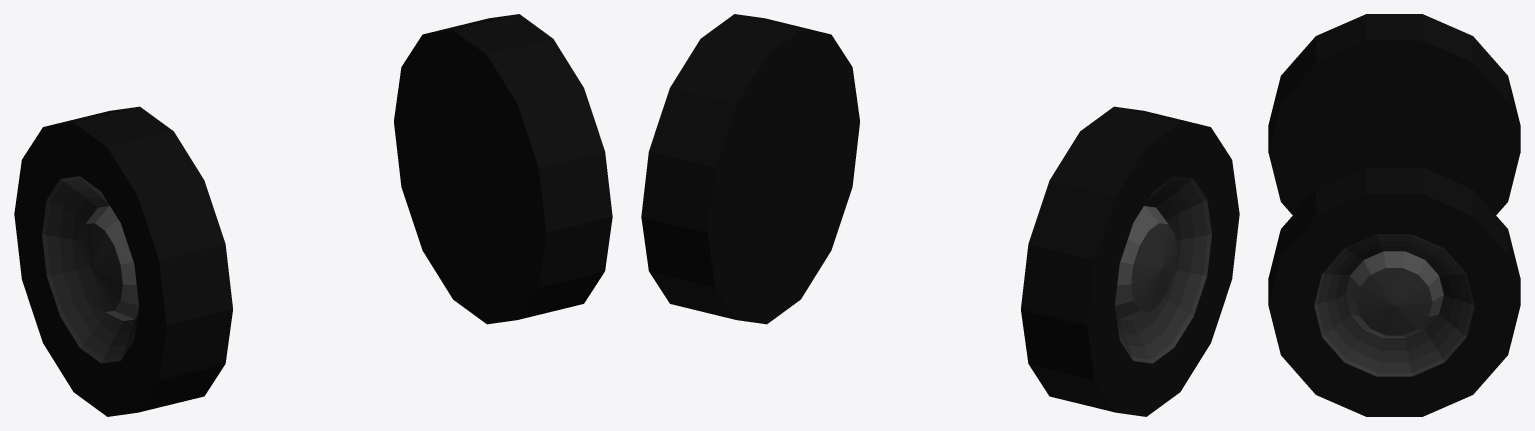
Rendered from WheelTractorBack.fbx.
3 renders of one model, left to right at view 1: azimuth 30°, elevation 25°; view 2: azimuth 150°, elevation 25°; view 3: azimuth 270°, elevation 25°, orthographic. The views are drawn at different scales.
Parts seen in each view (by area): view 1: WheelTractorBack; view 2: WheelTractorBack; view 3: WheelTractorBack.
Boxes of the visible parts, <box> form: WheelTractorBack: <box>14,14,612,416</box>; WheelTractorBack: <box>641,14,1239,416</box>; WheelTractorBack: <box>1268,14,1520,416</box>.
Size of the model in its own units: 2.27 by 1.31 by 1.34.
